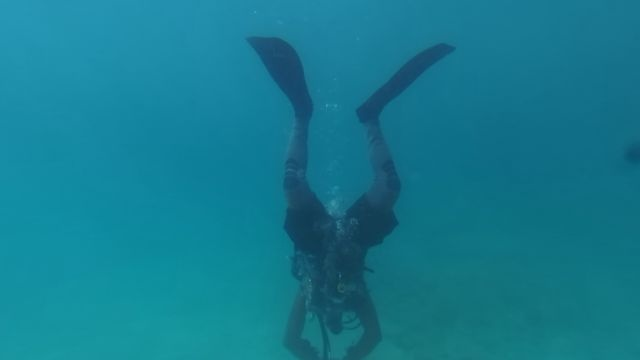Diver: (240, 31, 463, 358)
